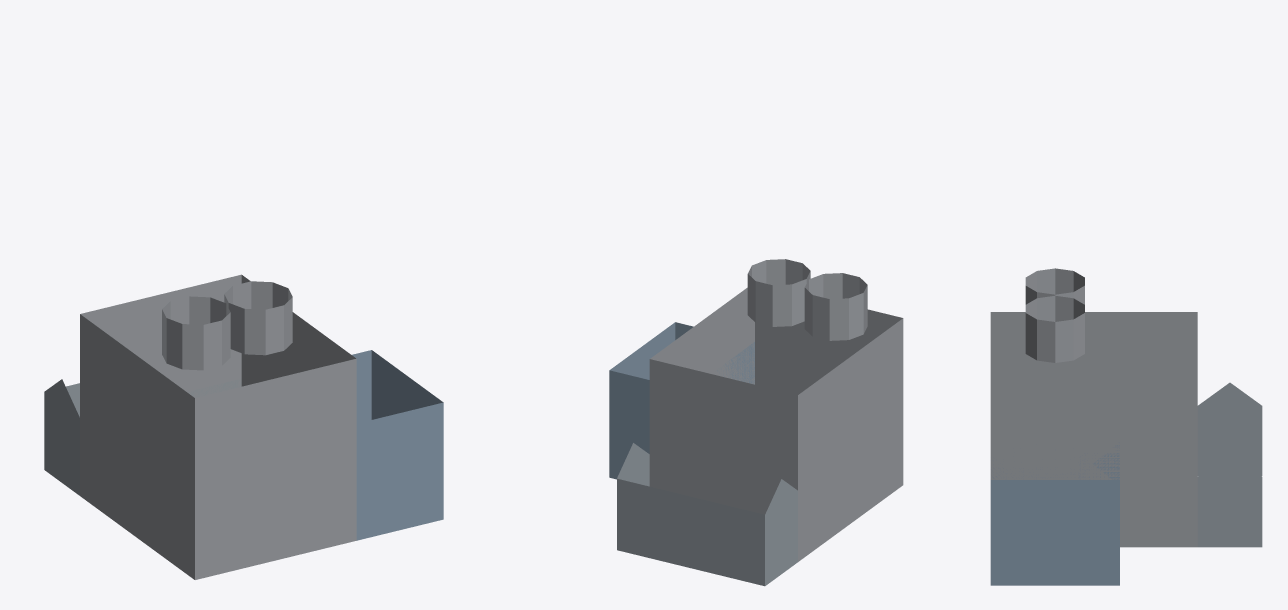
File: Svc_coal.fbx
3 views of the same model, side by side, from view 1: azimuth 30°, elevation 25°; view 2: azimuth 150°, elevation 25°; view 3: azimuth 270°, elevation 25° (orthographic). The views are drawn at different scales.
Visible parts, largest first — view 1: Svc_coal_LOD0; view 2: Svc_coal_LOD0; view 3: Svc_coal_LOD0.
Part boxes in pixels (x1,y1,x2,y2): Svc_coal_LOD0: (44,274,443,579); Svc_coal_LOD0: (609,259,903,586); Svc_coal_LOD0: (990,268,1262,585).
Size of what is drawn, in the model's own units: 2390 by 4030 by 2380.
Materials: 1 (1 with a texture image).
